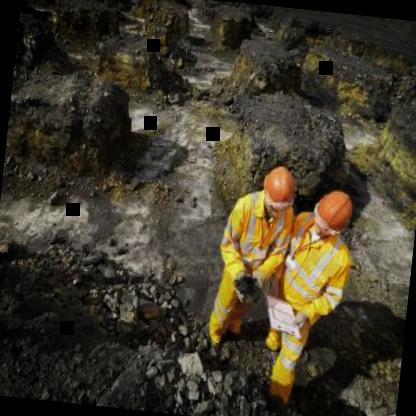helmet: (310, 186, 356, 240), (259, 164, 298, 216)
